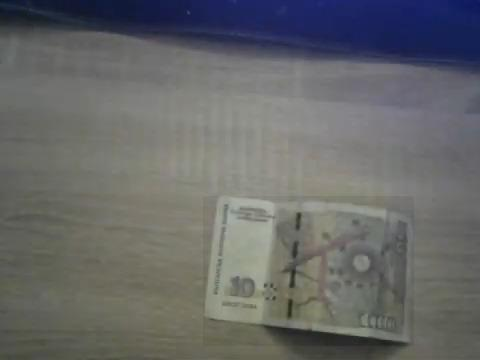10leva: (203, 196, 414, 346)
